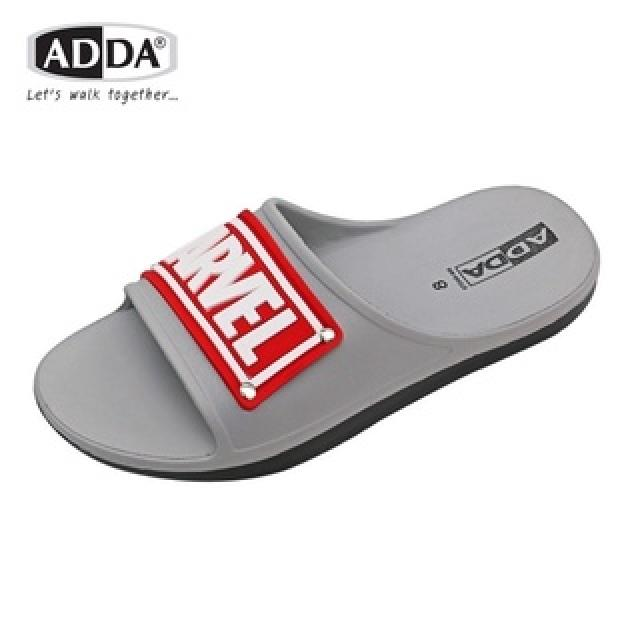shoes: (30, 181, 607, 483)
